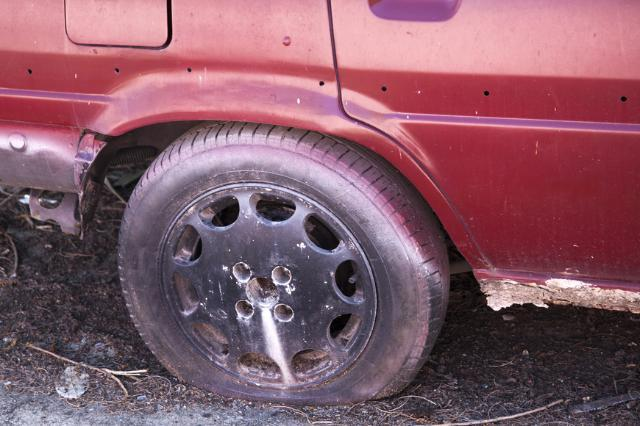Bumper: (0, 114, 113, 243)
Door: (426, 117, 640, 358)
